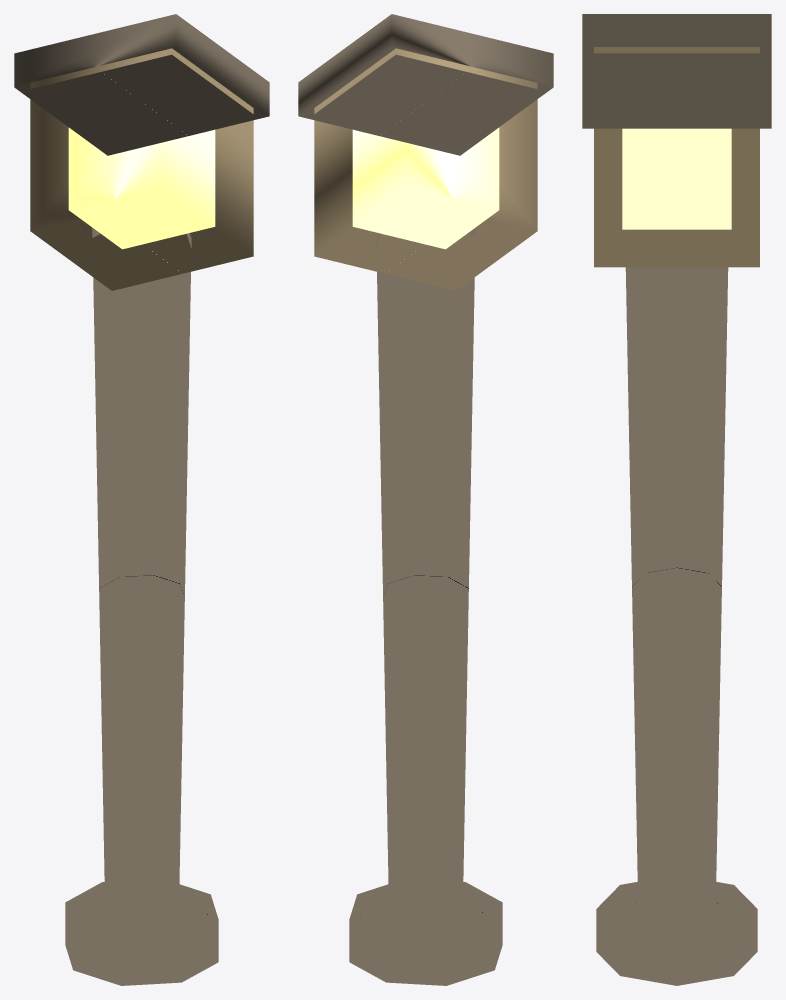
Rendered from prop_lantern.glb.
The picture shows the model from 3 angles, left to right: view 1: azimuth 30°, elevation 25°; view 2: azimuth 150°, elevation 25°; view 3: azimuth 270°, elevation 25°; orthographic projection.
Size of the model in its own units: 8 by 41.8 by 8.
